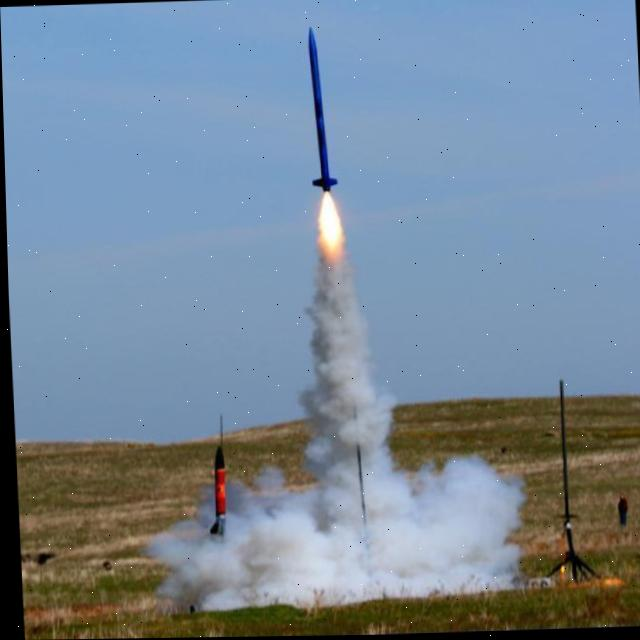missile: (300, 23, 334, 200)
